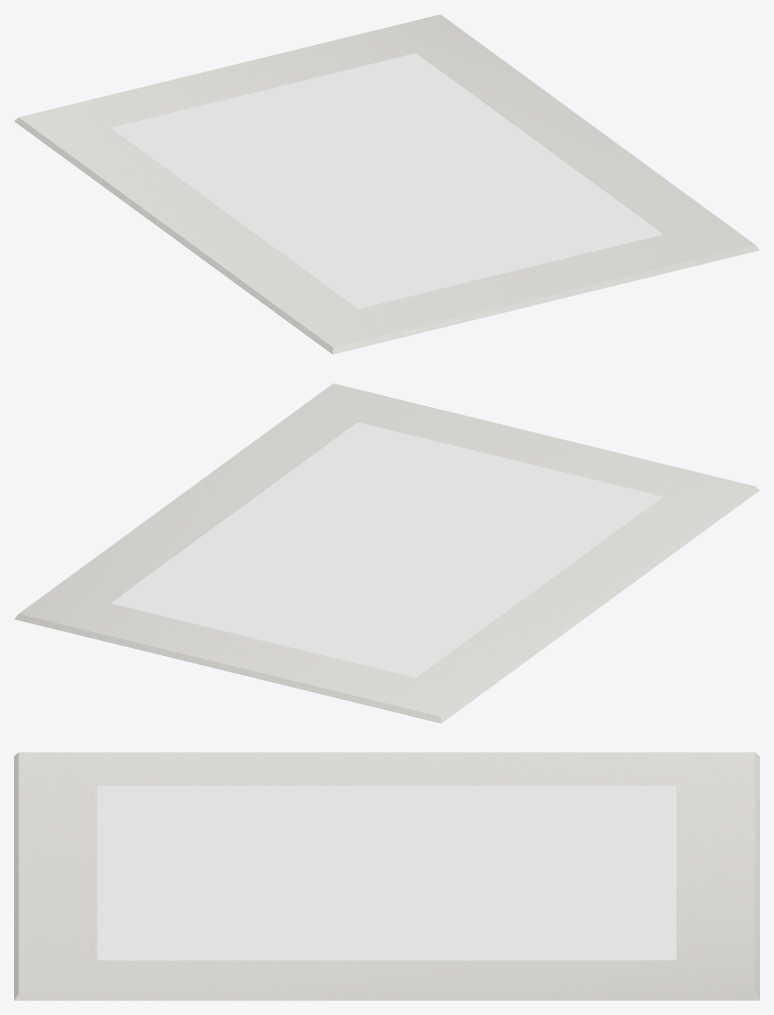
The model's file is COMFORT_HATCH.glb.
The picture shows the model from 3 angles, top to bottom: view 1: azimuth 30°, elevation 25°; view 2: azimuth 150°, elevation 25°; view 3: azimuth 270°, elevation 25°; orthographic projection. The views are drawn at different scales.
Visible parts, largest first — view 1: hatch.004; view 2: hatch.004; view 3: hatch.004.
Part boxes in pixels (box(x1,y1,x2,y2)): hatch.004: box(14, 14, 759, 354); hatch.004: box(14, 383, 759, 723); hatch.004: box(14, 752, 759, 1000).
Bounding box in the file's own units: 0.3 × 0.00321 × 0.3876.
Materials: 2 (1 with a texture image).
